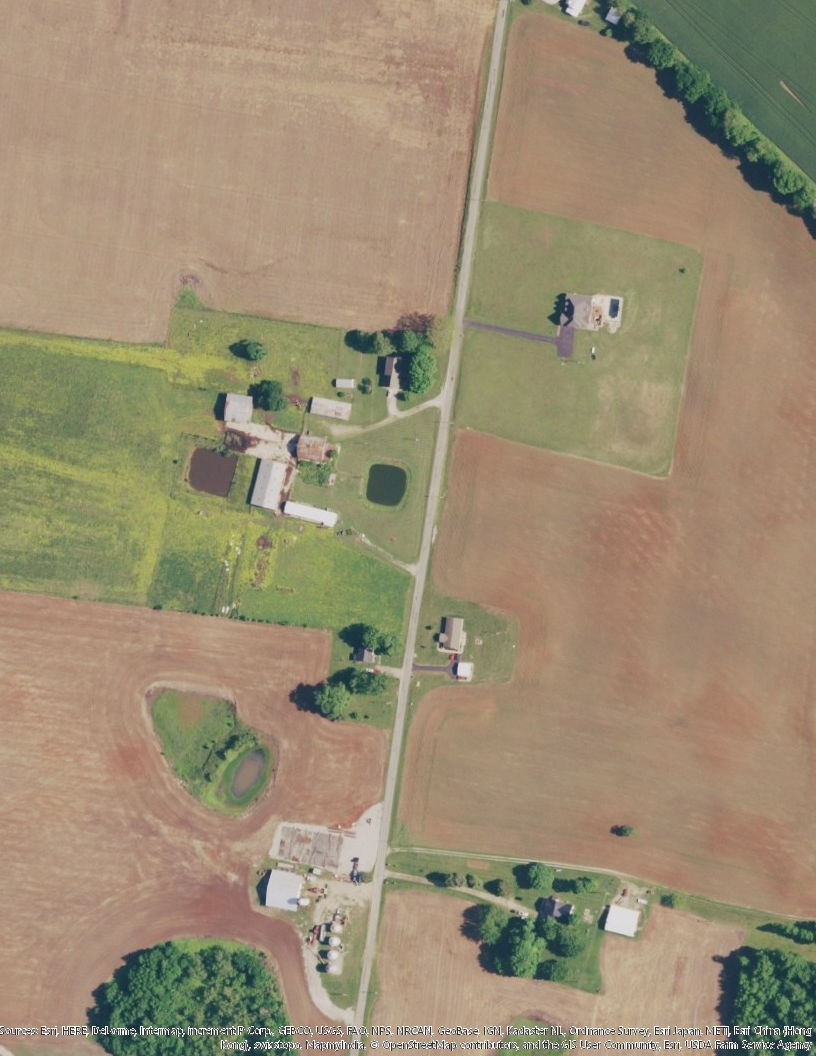cafo: (248, 456, 295, 514), (280, 495, 341, 531), (292, 434, 344, 466), (303, 390, 356, 421)
